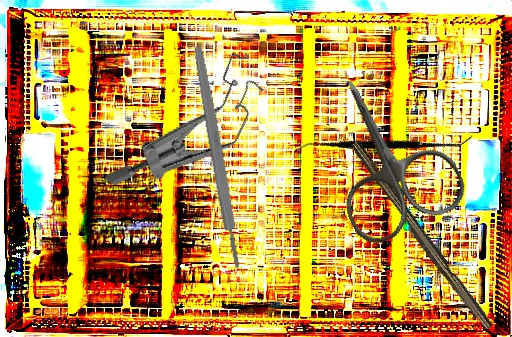Iris Scissors: (296, 55, 473, 251)
Scalpel Handle: (344, 139, 497, 334), (191, 44, 244, 271)
Spatula Surgical: (294, 64, 474, 223)
Speculum: (101, 20, 279, 227)
